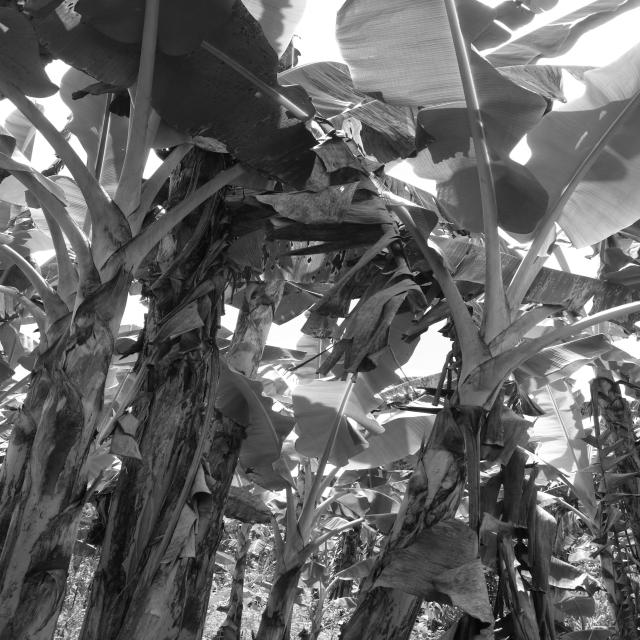Banana-plant: (81, 80, 269, 640), (325, 316, 571, 640), (0, 140, 155, 640)
